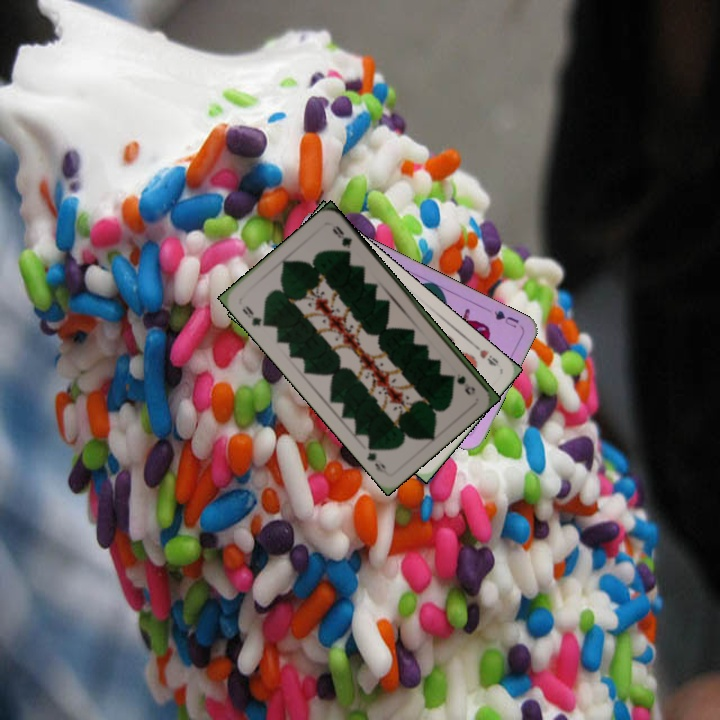G9: (238, 302, 271, 329), (448, 369, 478, 397)
GU: (490, 306, 522, 330)
H9: (469, 340, 502, 369)
